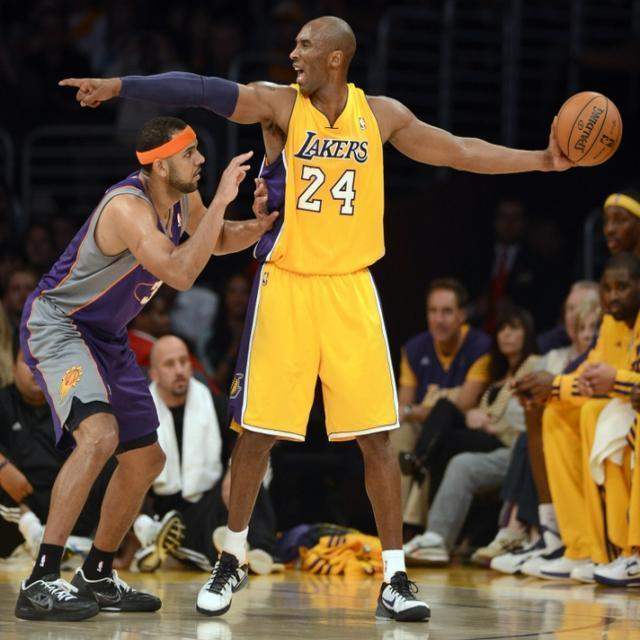ball: (552, 85, 624, 166)
